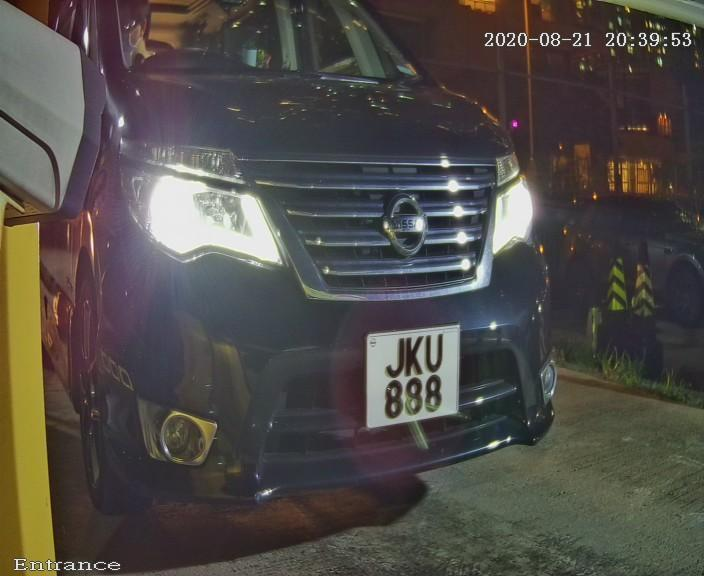Car: (26, 1, 607, 574)
License Plate: (359, 314, 469, 440)
